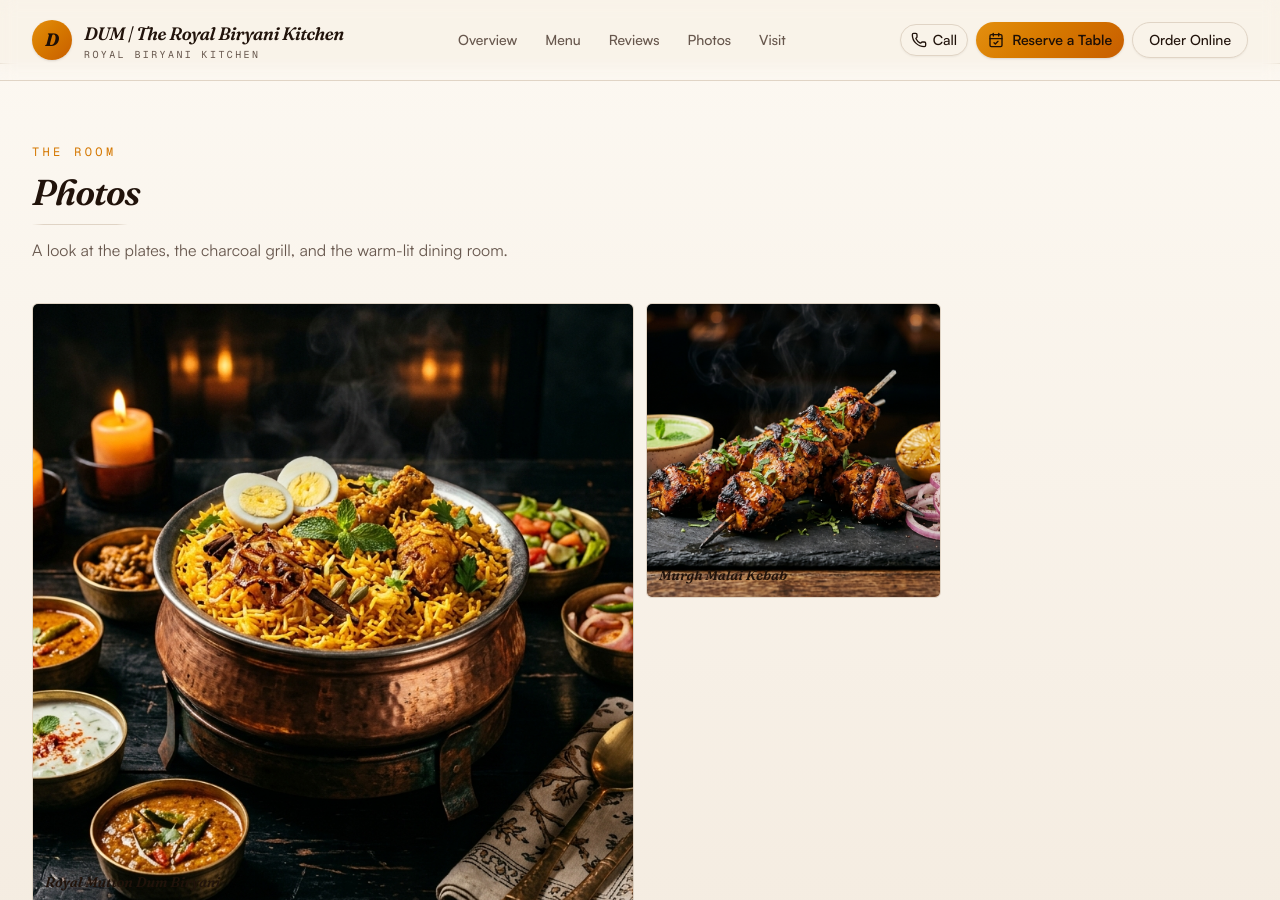
Test: Photos › opens a clicked photo in the lightbox
(page scrolled)
Click the button with test id "photos.item.2" at coordinates (794, 450), box [646, 303, 941, 598]
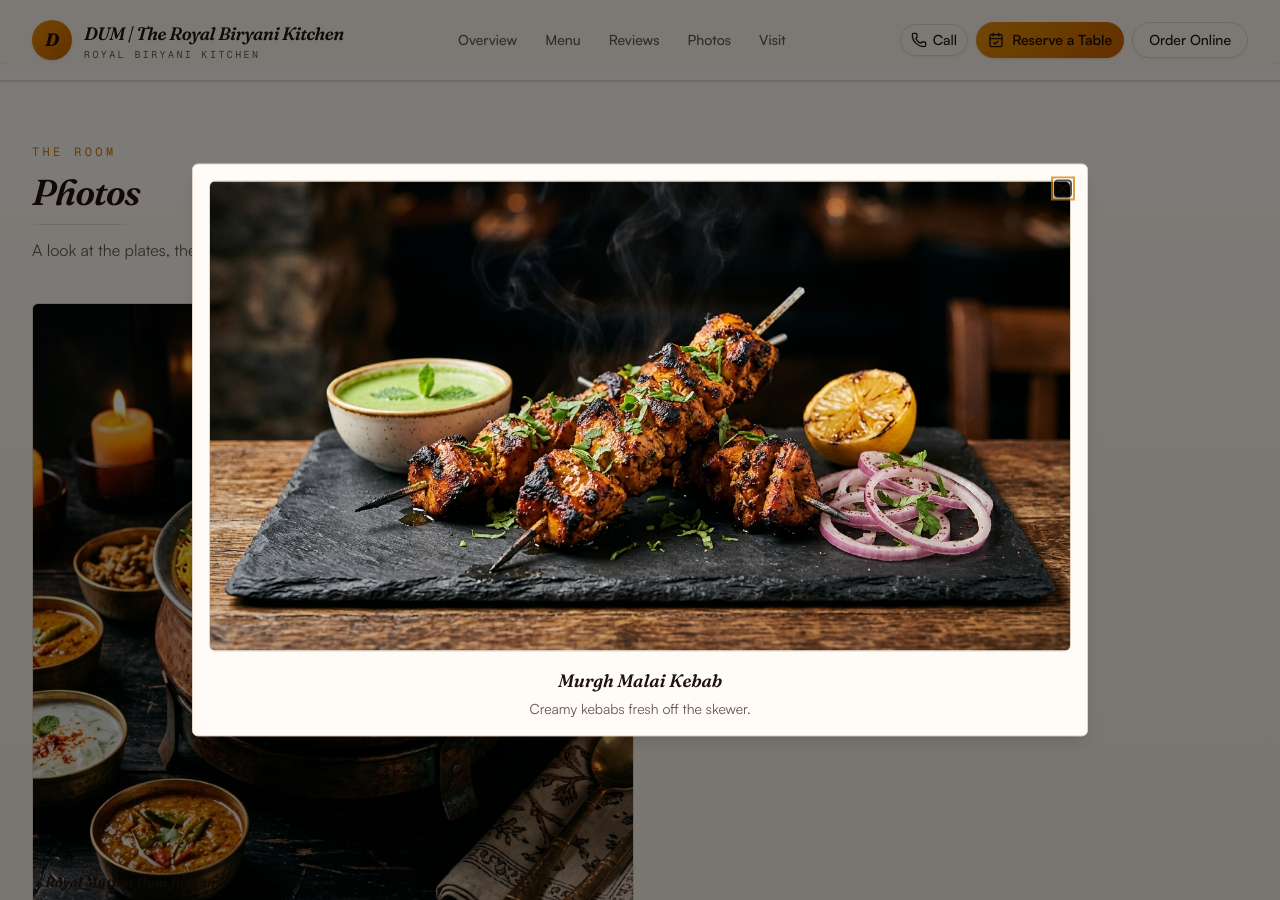
Expected: the heading "Murgh Malai Kebab" is shown, [558, 670, 722, 692]
Expected: the text "Creamy kebabs fresh off the skewer." is shown, [529, 700, 750, 720]
